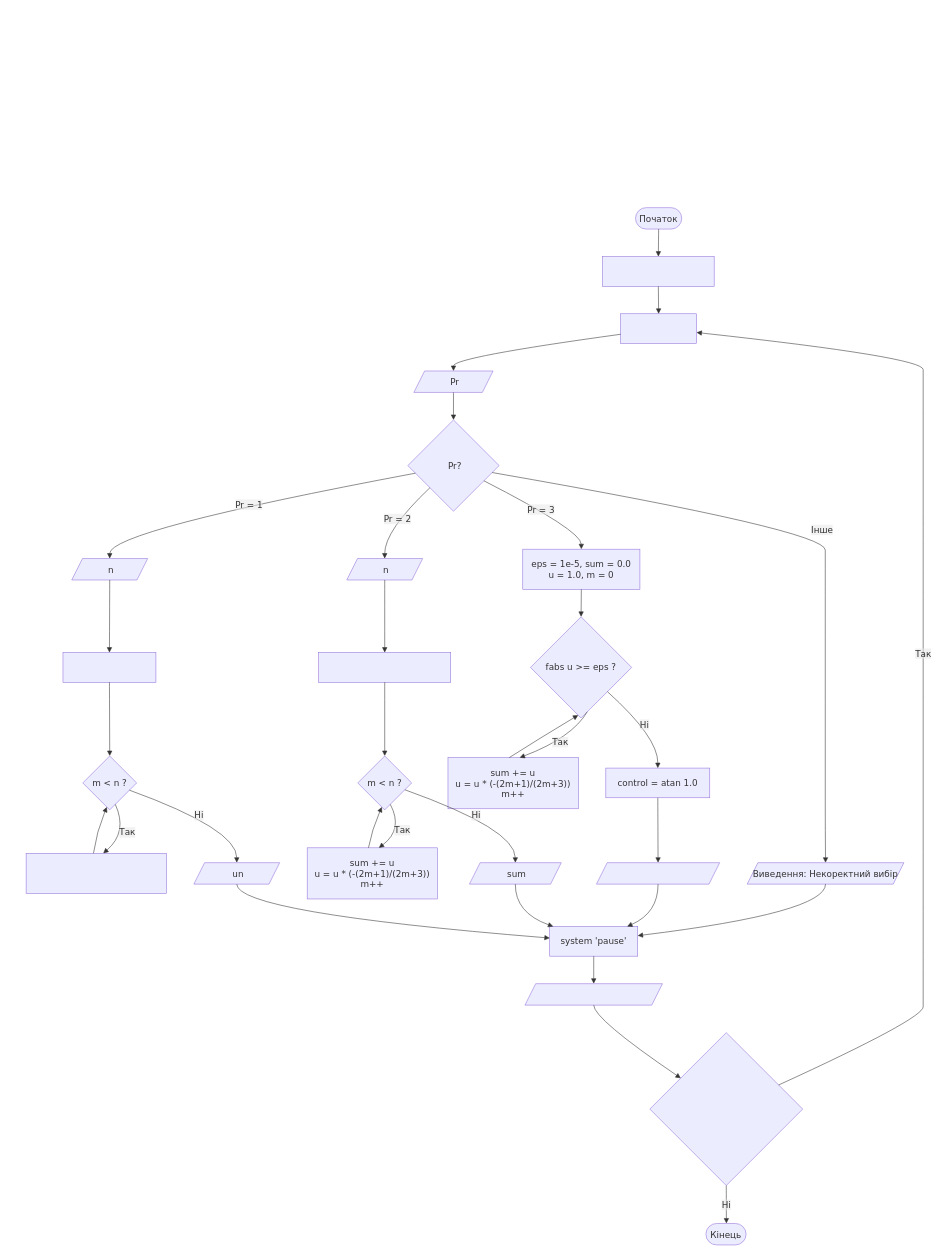
Image size: 941x1255. Some labels were removed from this diagram. The shapes that lost their labels are listed below. From the top down, each one's centre as x and y in pixels, then its label:
At point (658, 271): "SetConsoleCP 65001".
At point (658, 328): "system 'cls'".
At point (109, 667): "un = 1.0, m = 0".
At point (384, 667): "sum = 0.0, u = 1.0, m = 0".
At point (96, 873): "un = un * (-(2m+1)/(2m+3)) m++".
At point (658, 873): "Виведення результатів".
At point (593, 994): "continueProgram".
At point (726, 1109): "continueProgram != 0 ?".
